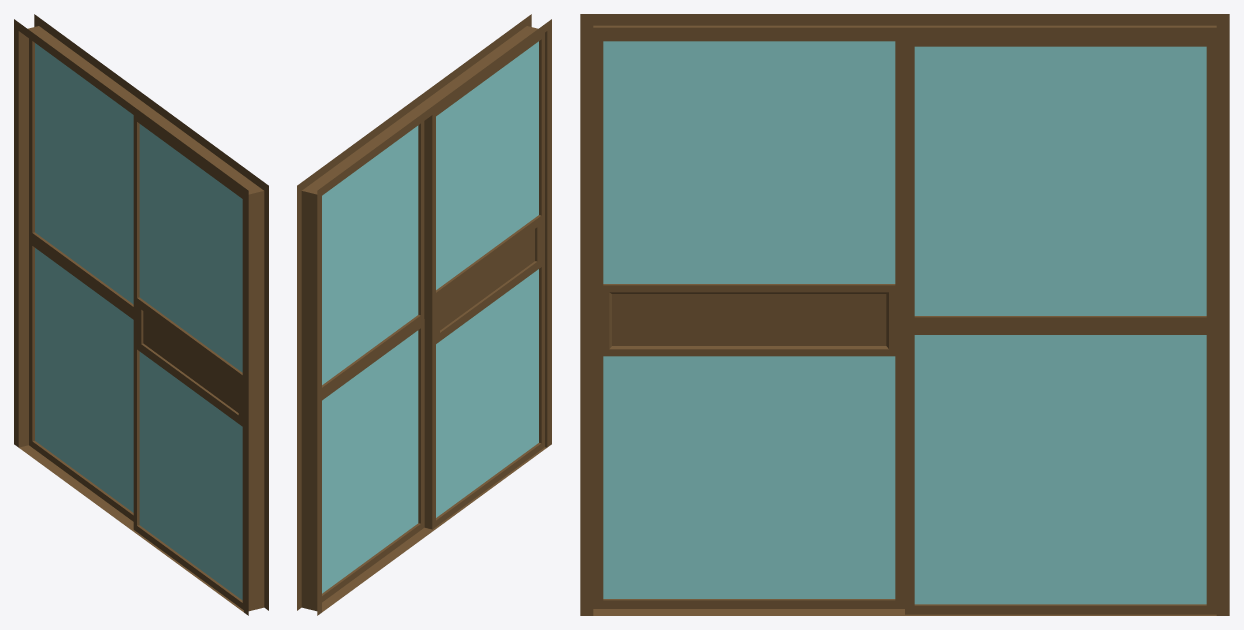
Rendered from Wall_Store_Door.fbx.
The picture shows the model from 3 angles, left to right: view 1: azimuth 30°, elevation 25°; view 2: azimuth 150°, elevation 25°; view 3: azimuth 270°, elevation 25°; orthographic projection. The views are drawn at different scales.
Visible parts, largest first — view 1: Cube.047, Cube.063; view 2: Cube.047, Cube.063; view 3: Cube.047, Cube.063.
Boxes of the visible parts, box(x1,y1,x2,y2) form: Cube.047: box(14, 14, 268, 615); Cube.063: box(133, 111, 253, 609); Cube.047: box(297, 14, 551, 615); Cube.063: box(424, 29, 544, 529); Cube.047: box(580, 14, 1229, 615); Cube.063: box(593, 27, 904, 608).
Bounding box in the file's own units: 10 × 200 × 200.
